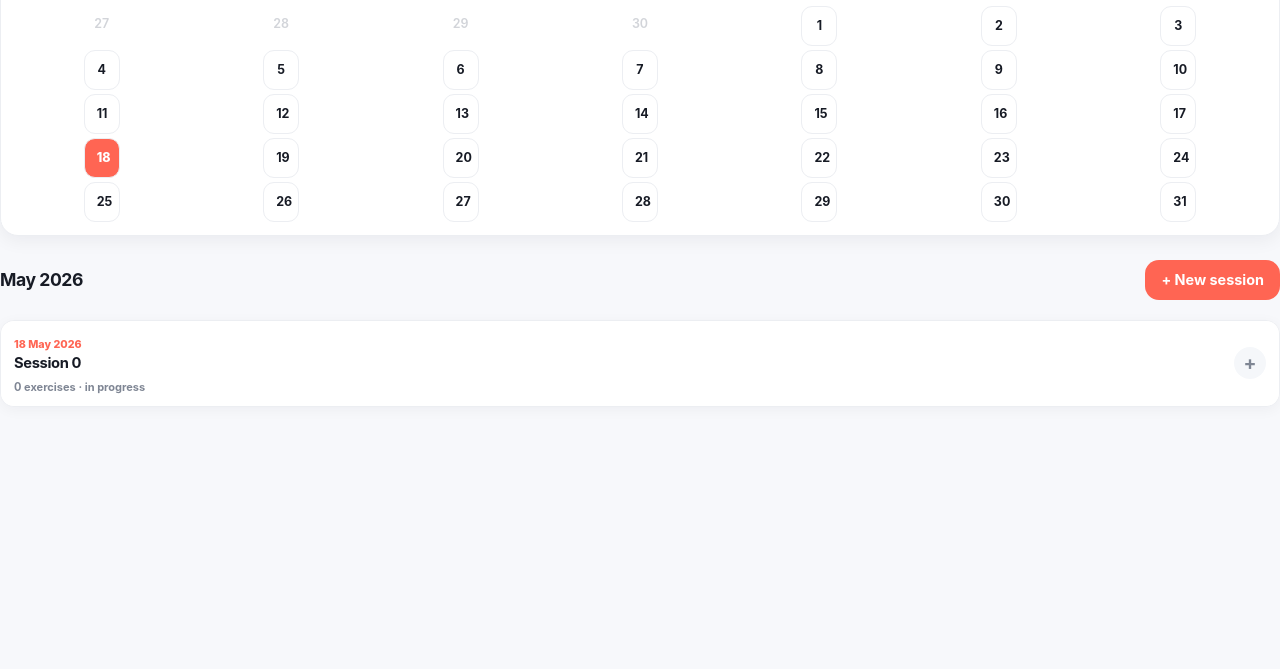
Test case: WorkoutLogPage calendar › follows a session that is moved to another month
Click the button "18 May 2026 Session 0 0 exercises · in progress +" at (48, 344), box [1, 321, 1279, 406]
(page scrolled)
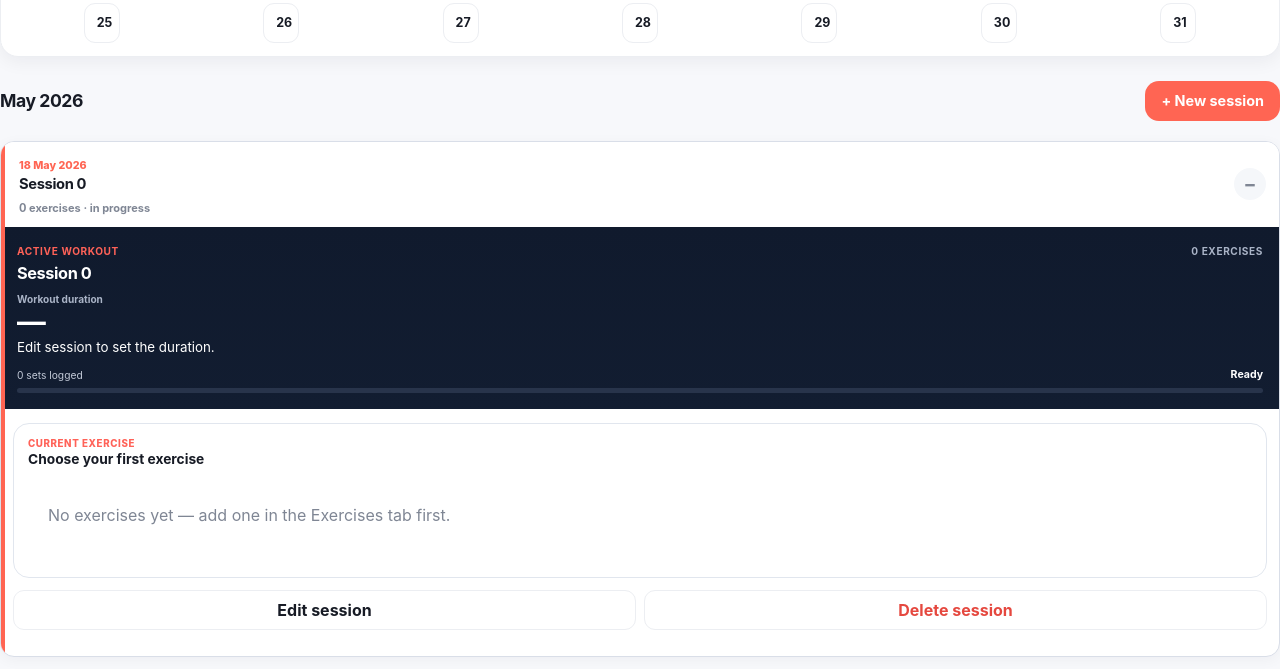
Click the button "Edit session" at (324, 610), box [13, 590, 636, 630]
(page scrolled)
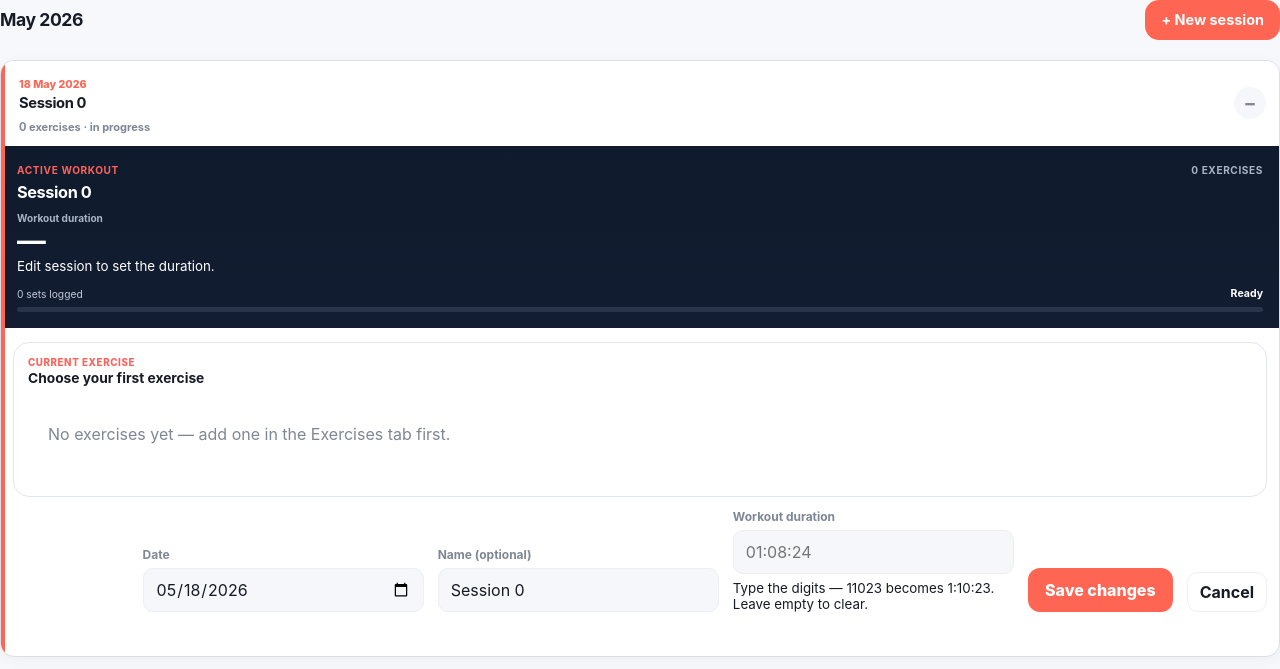
Type "2026-09-02" into the date field labelled "Date" at (283, 590), box [142, 568, 424, 612]
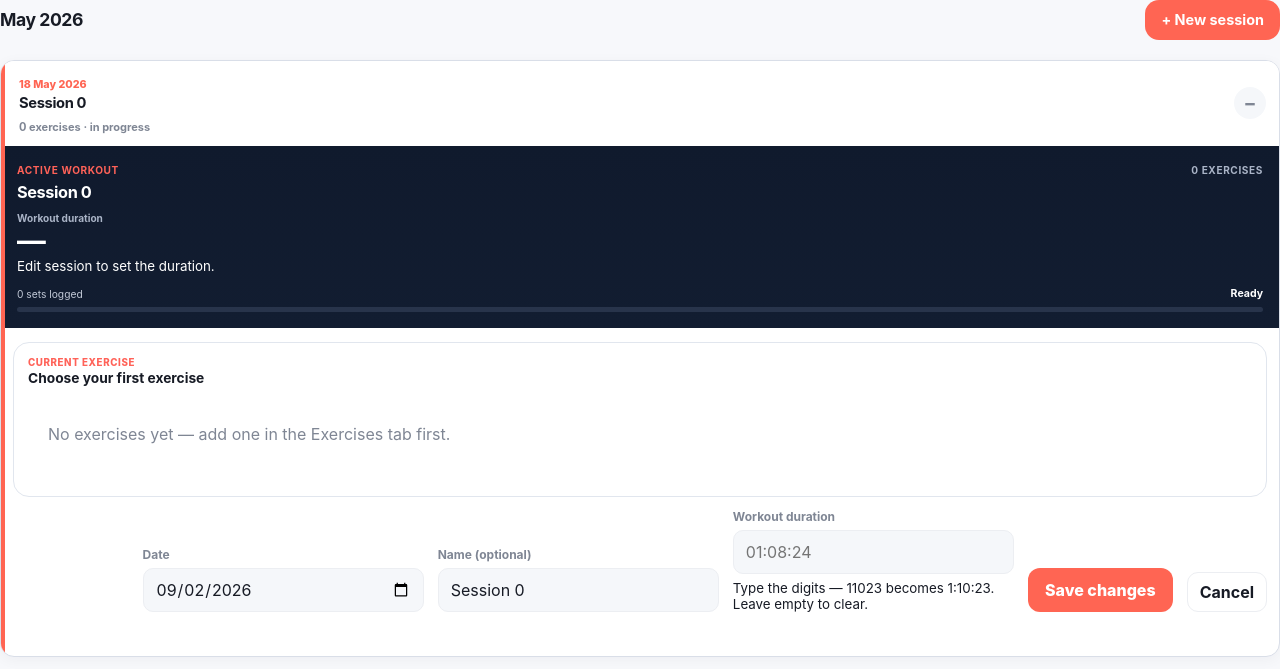
Click the button "Save changes" at (1100, 590), box [1028, 568, 1173, 612]
(page scrolled)
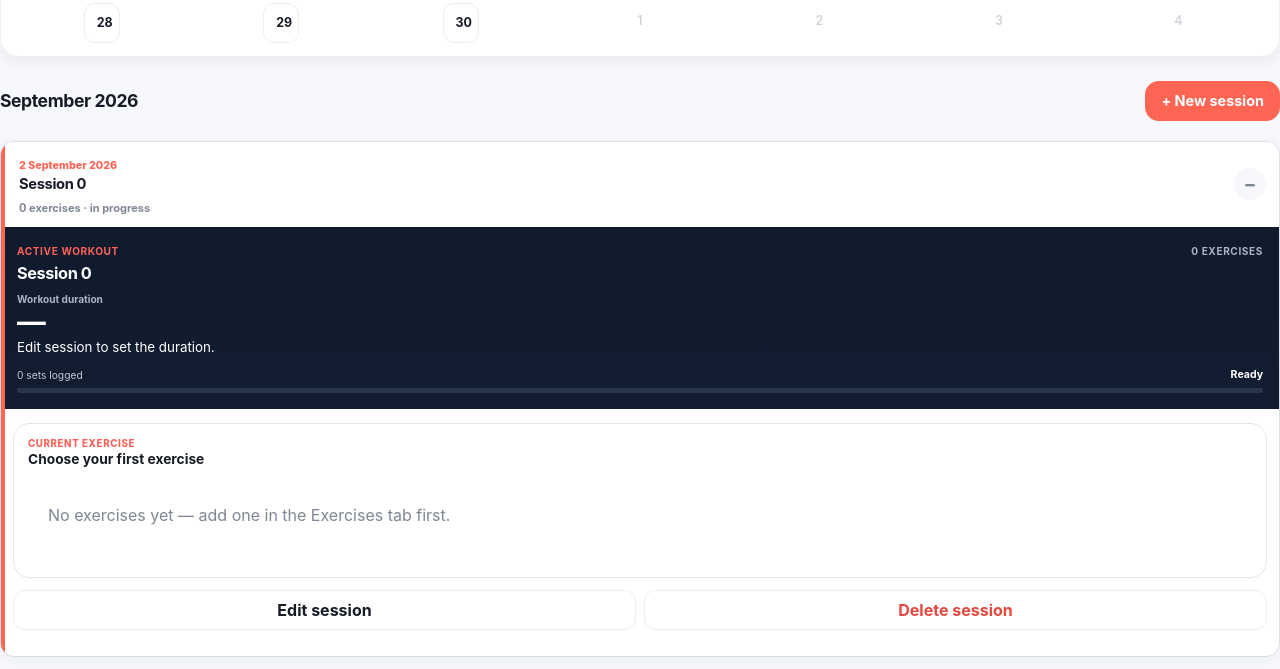
Expected: the text "2026-09-02" is not shown
Result: the text "2 September 2026" is shown at [19, 159, 117, 172]
